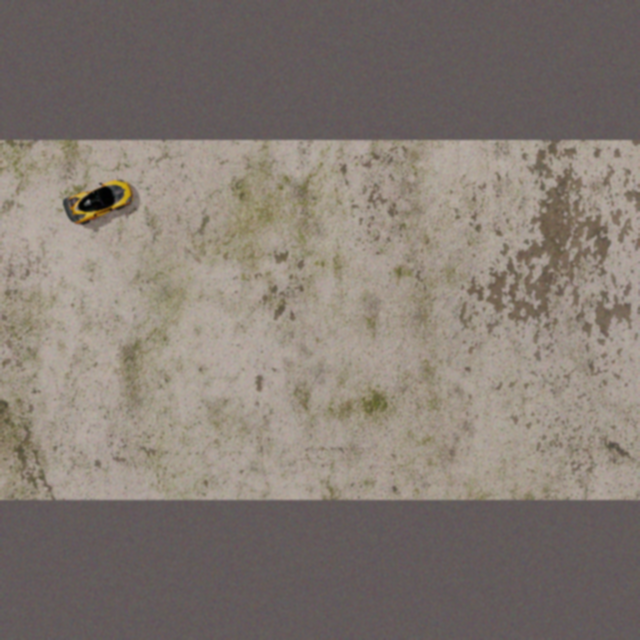car: (59, 172, 138, 229)
